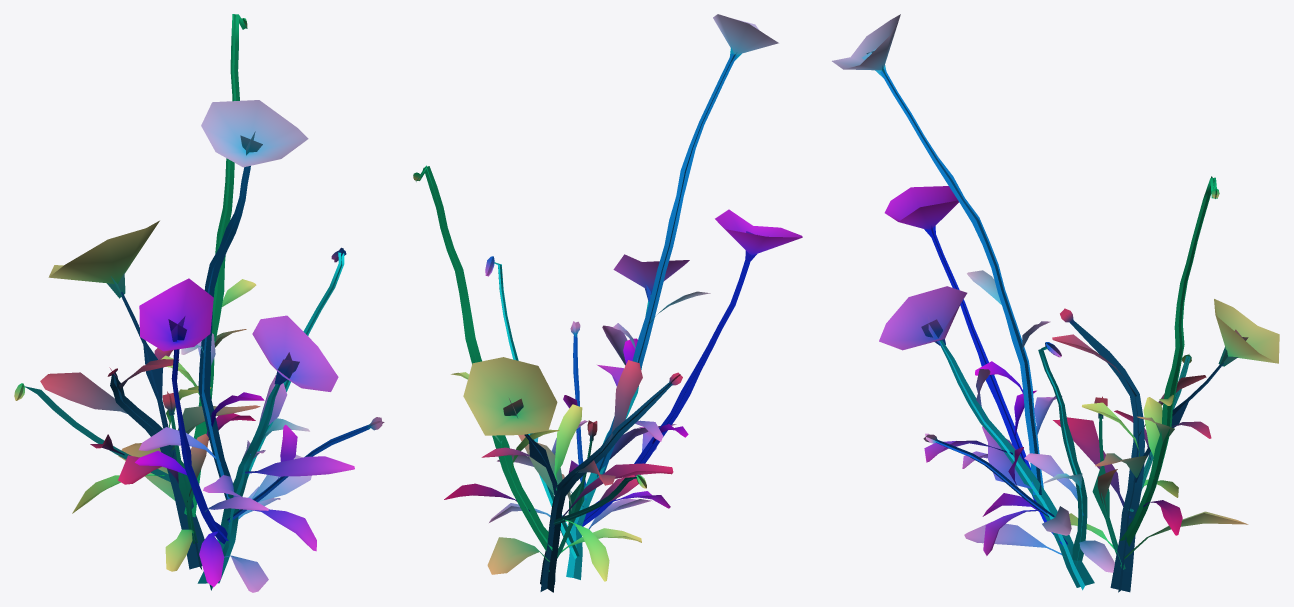
File: Field_Poppy_vmcobd0ja_Low_vmcobd0ja_VarE_LOD0.fbx
The picture shows the model from 3 angles, left to right: view 1: azimuth 30°, elevation 25°; view 2: azimuth 150°, elevation 25°; view 3: azimuth 270°, elevation 25°; orthographic projection. The views are drawn at different scales.
Visible parts, largest first — view 1: _m3bc_VarE_LOD2; view 2: _m3bc_VarE_LOD2; view 3: _m3bc_VarE_LOD2.
Part boxes in pixels (x1=…): _m3bc_VarE_LOD2: x1=14, y1=14, x2=384, y2=592; _m3bc_VarE_LOD2: x1=413, y1=14, x2=802, y2=592; _m3bc_VarE_LOD2: x1=832, y1=14, x2=1279, y2=592.
Bounding box in the file's own units: 38.96 × 76.9 × 58.79.
